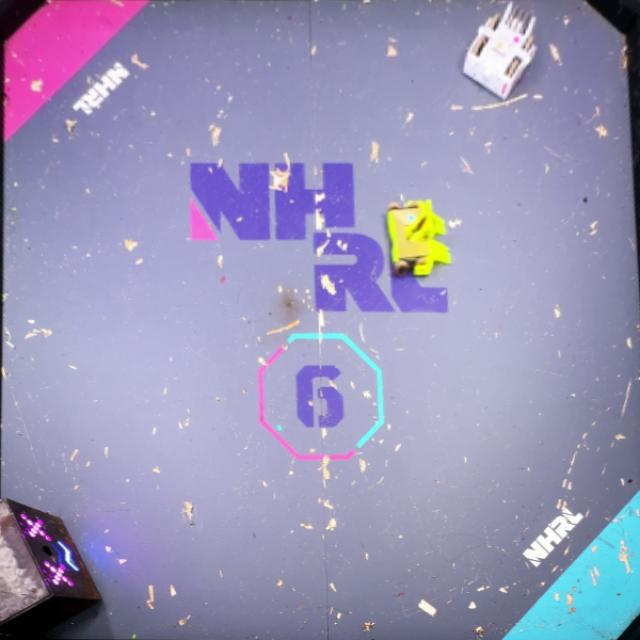housebot: (0, 497, 103, 640)
robot: (460, 0, 538, 99), (386, 198, 453, 278)
